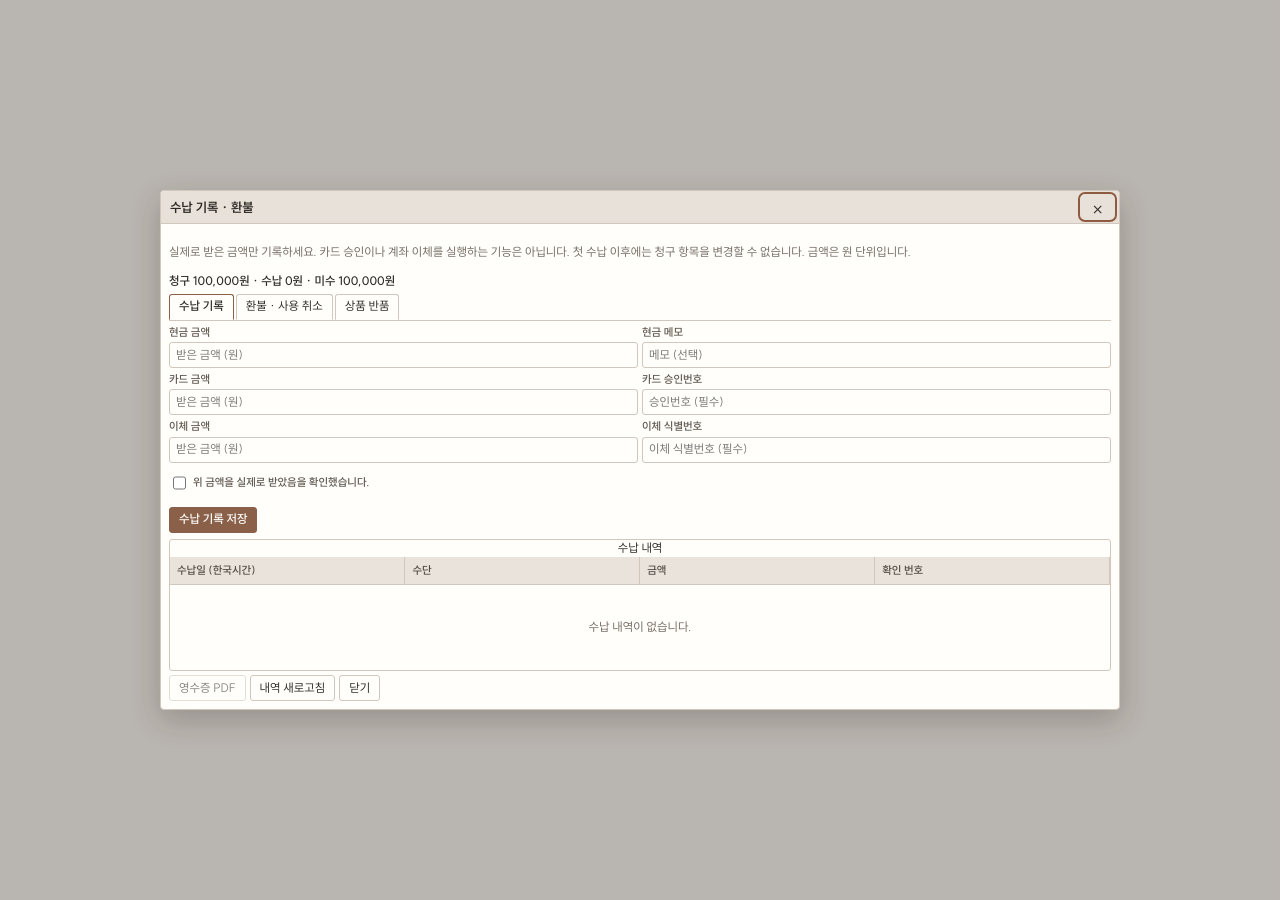
Test: PaymentDialog 수납·환불·반품 › 미수금을 넘으면 요청하지 않는다
Expected: the text "청구 100,000원 · 수납 0원 · 미수 100,000원" is shown, left=169, top=273, right=395, bottom=288
In the field labelled "현금 금액": (404, 355) left=169, top=342, right=638, bottom=368, type "100001"
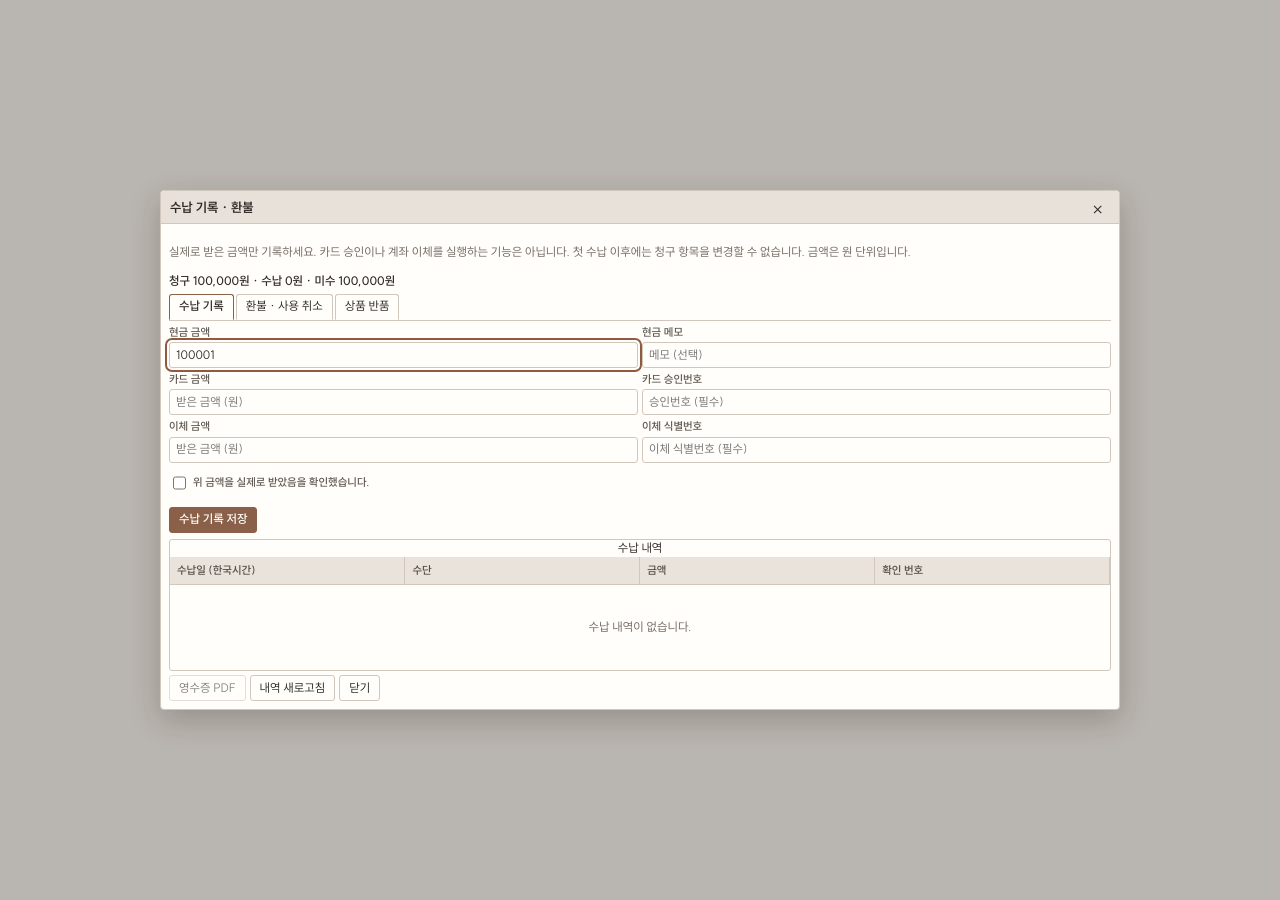
Click the checkbox labelled "위 금액을 실제로 받았음을 확인했습니다.": click(180, 483) left=173, top=470, right=186, bottom=496
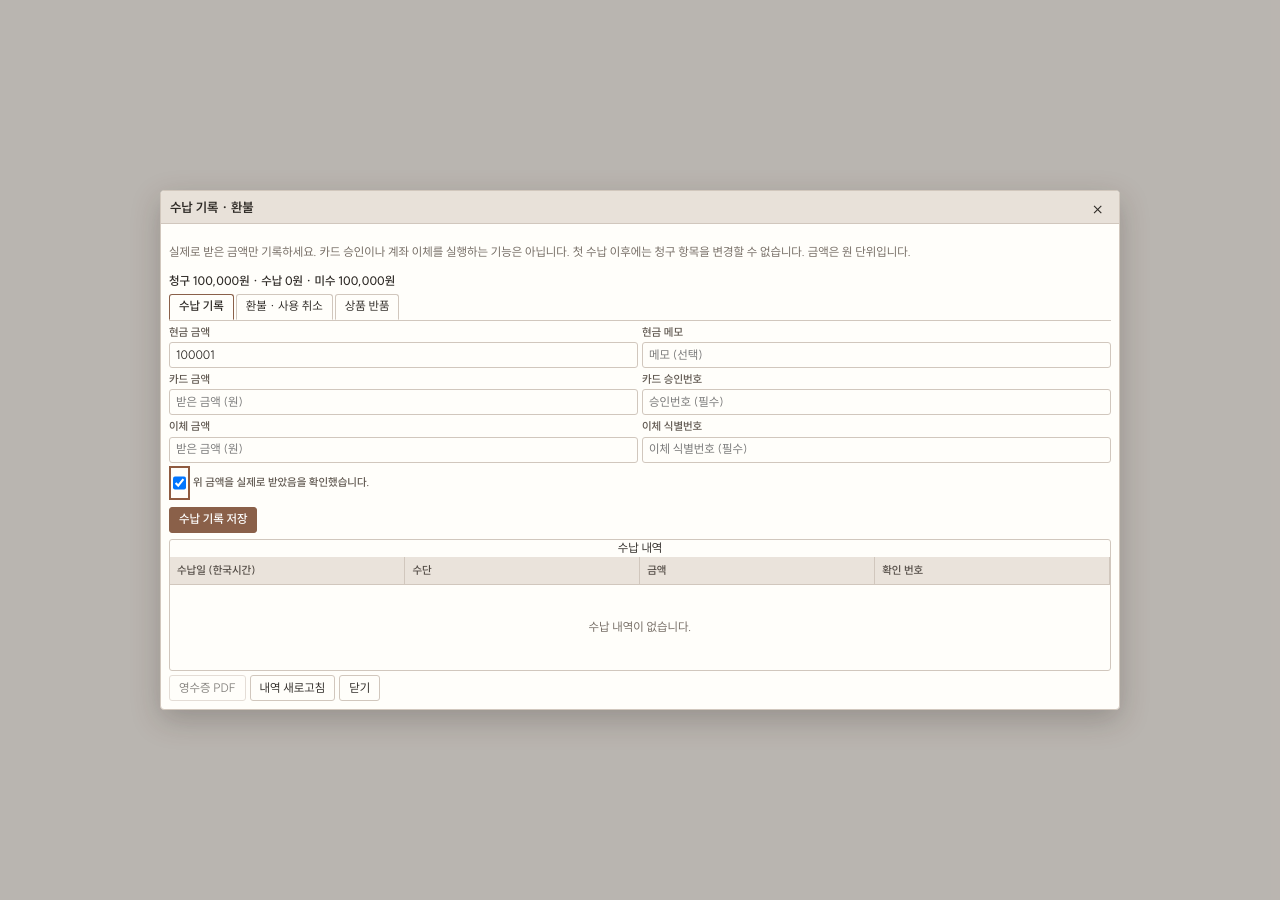
Click the button "수납 기록 저장": click(213, 520) left=169, top=507, right=258, bottom=533
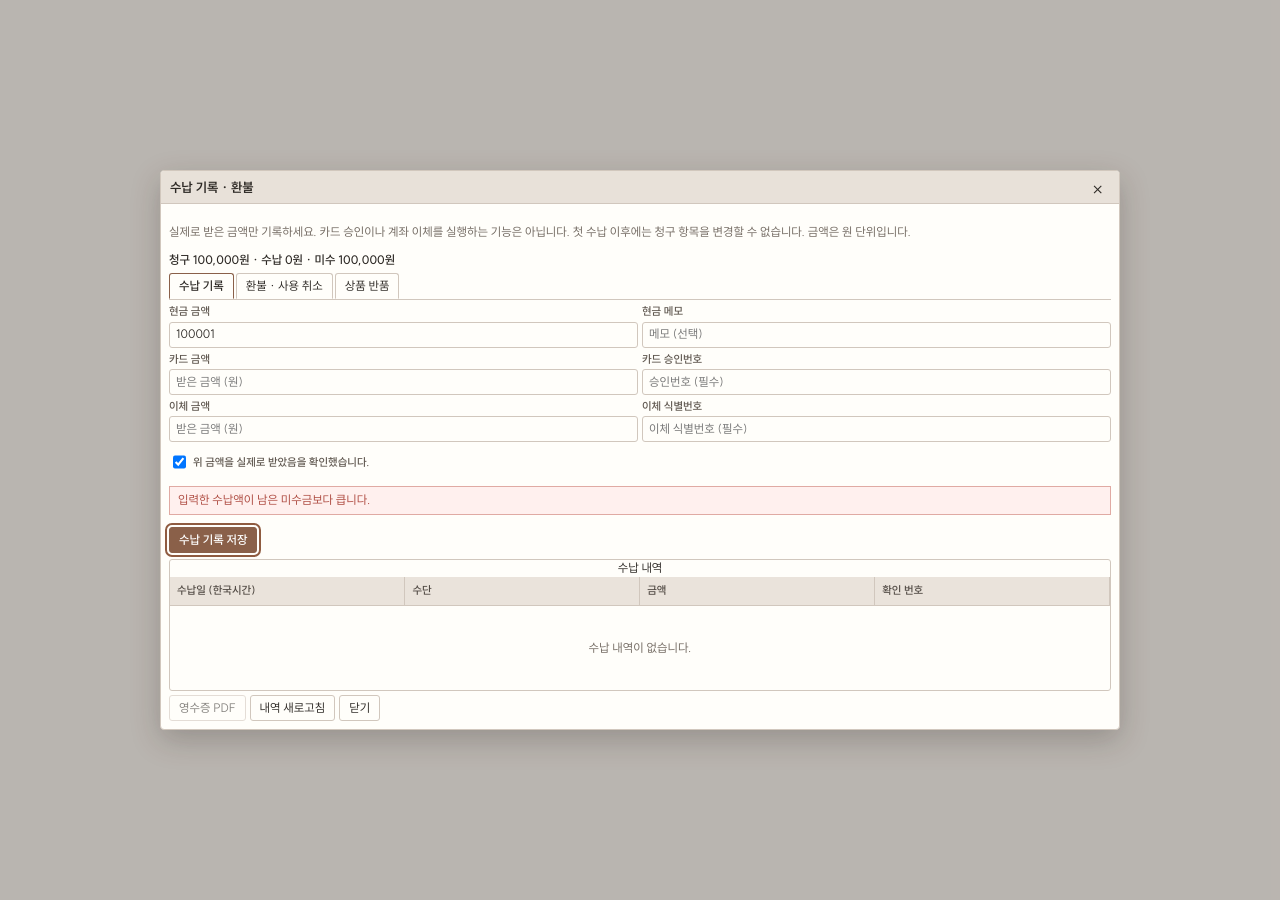
Expected: the message reads "입력한 수납액이 남은 미수금보다 큽니다.", left=178, top=492, right=370, bottom=507
